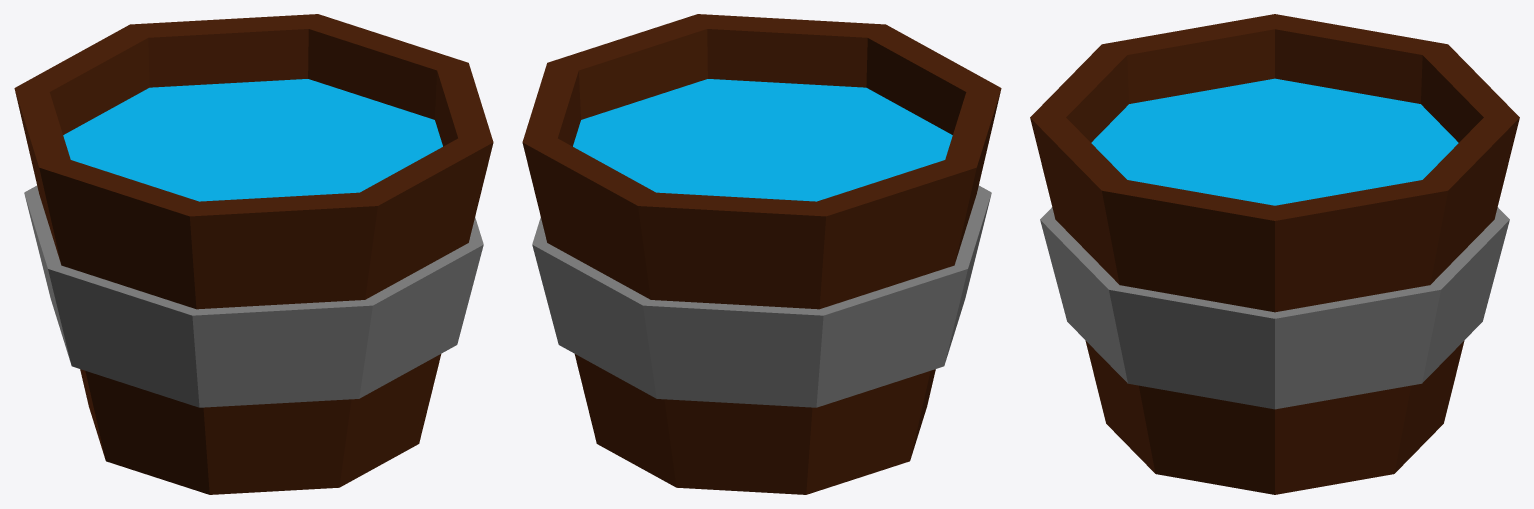
File: bucket.fbx
The picture shows the model from 3 angles, left to right: view 1: azimuth 30°, elevation 25°; view 2: azimuth 150°, elevation 25°; view 3: azimuth 270°, elevation 25°; orthographic projection.
Parts seen in each view (by area): view 1: bucket; view 2: bucket; view 3: bucket.
Boxes of the visible parts, box(x1,y1,x2,y2) form: bucket: box(14, 14, 493, 494); bucket: box(522, 14, 1001, 494); bucket: box(1030, 14, 1519, 494).
Bounding box in the file's own units: 246 × 170 × 246.
1 material, 1 textured.
